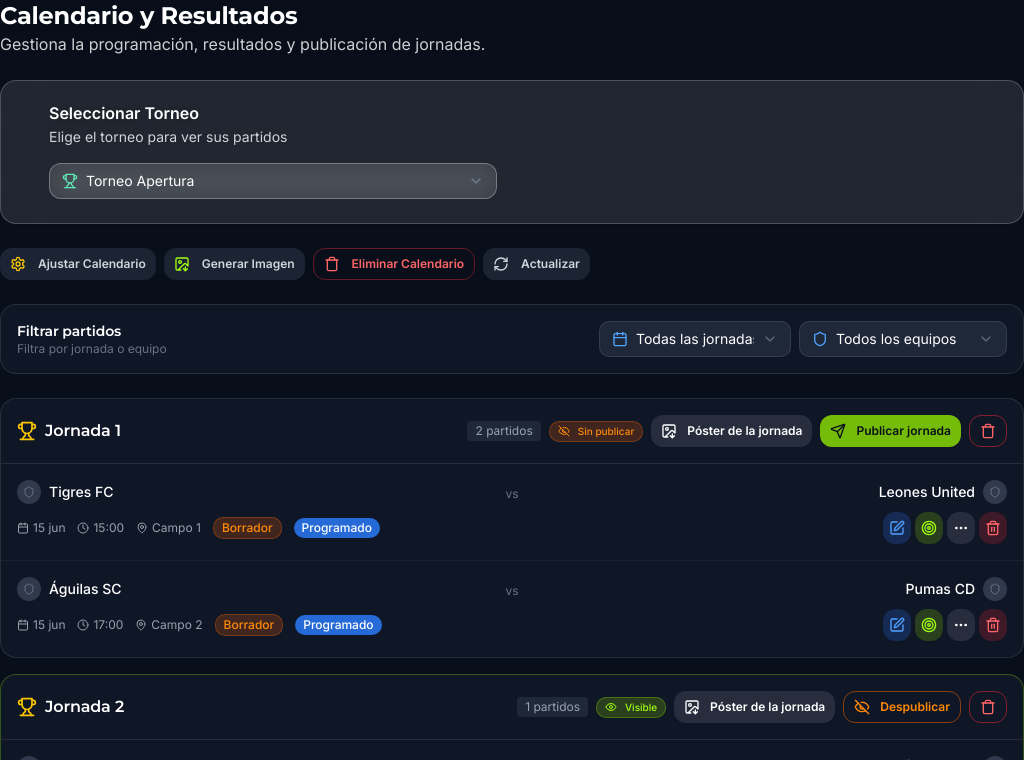
Test: delete round › says finished matches go too and sends nothing when cancelled
Click the button named "Eliminar jornada" in the row of "Sin publicar" at coordinates (988, 431), box [969,415,1007,447]
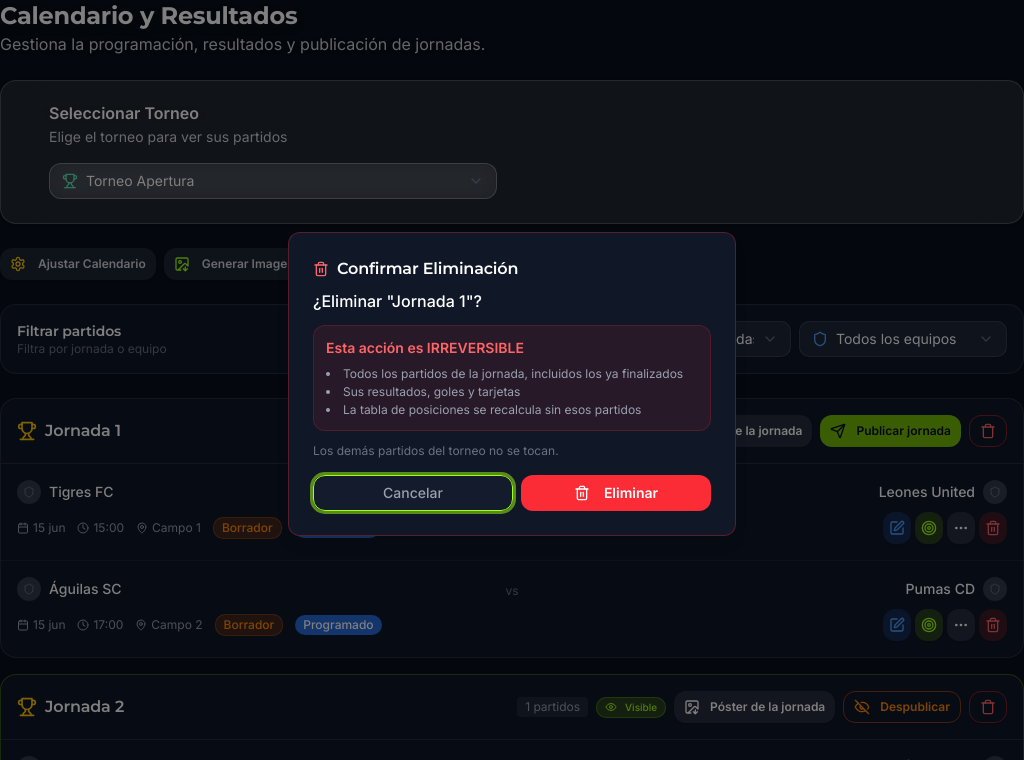
Expected: the list item "incluidos los ya finalizados" is shown, [343,366,683,381]
Expected: the list item "La tabla de posiciones se recalcula sin esos partidos" is shown, [343,402,641,417]
Click the button "Cancelar" at coordinates (413, 493), box [313,475,513,511]
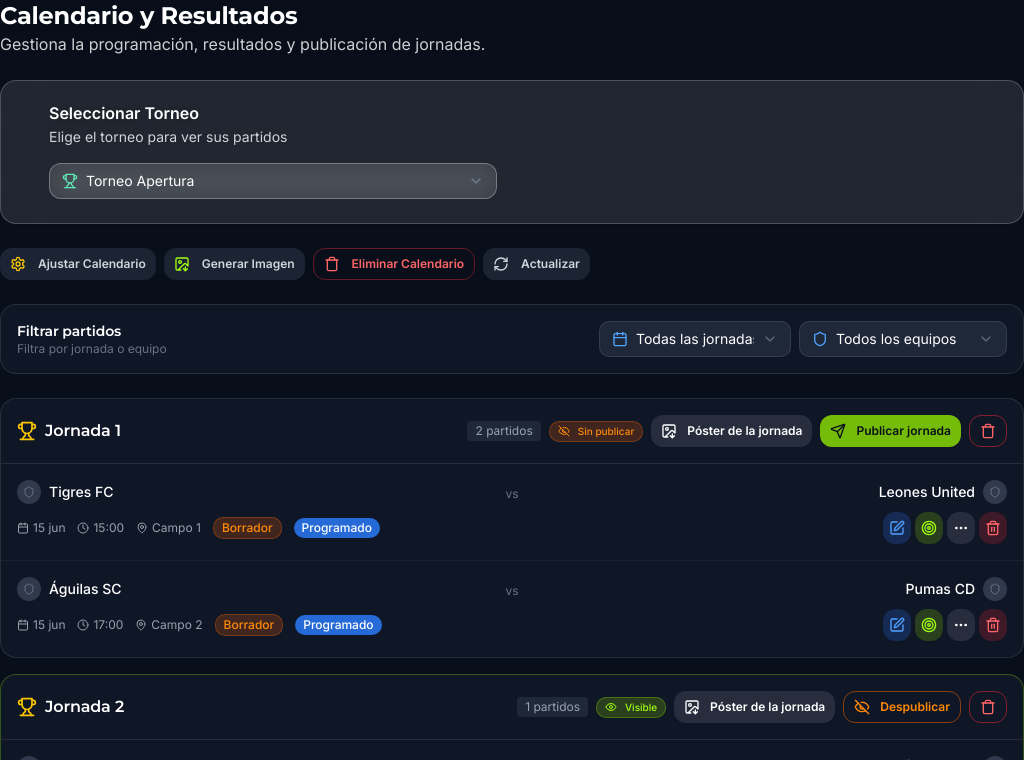
Expected: the dialog is gone
